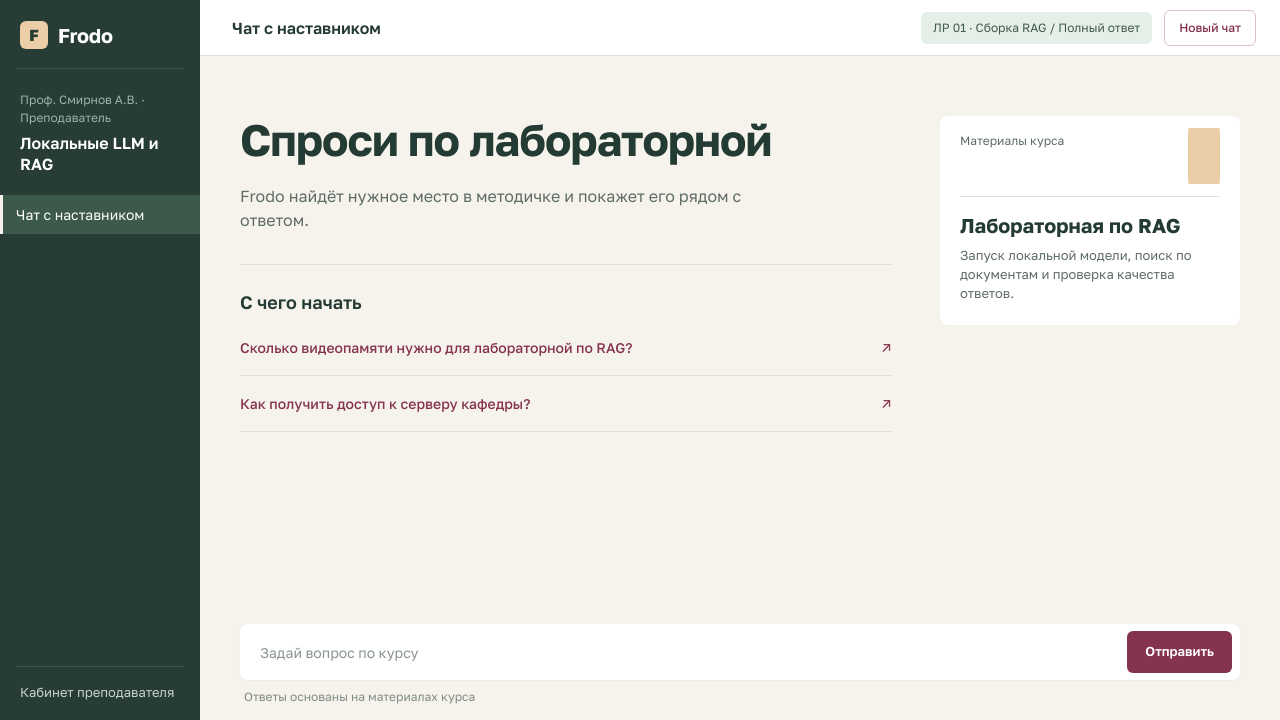
Test: чат с наставником › отправляет вопрос из композера и очищает поле
Type "  Сколько нужно видеопамяти?  " into the field labelled "вопрос по курсу" at x=688, y=652, box x1=258 y1=640 x2=1117 y2=664
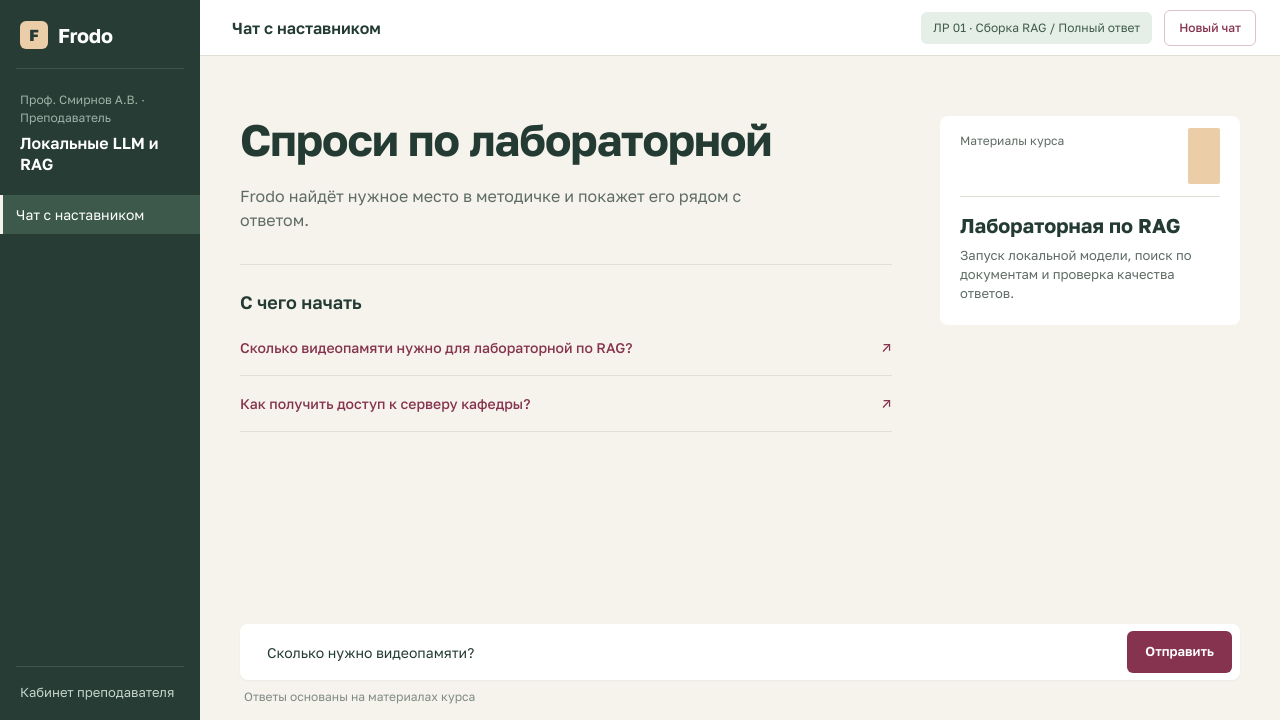
Click the button "Отправить" at x=1180, y=652, box x1=1127 y1=631 x2=1232 y2=673
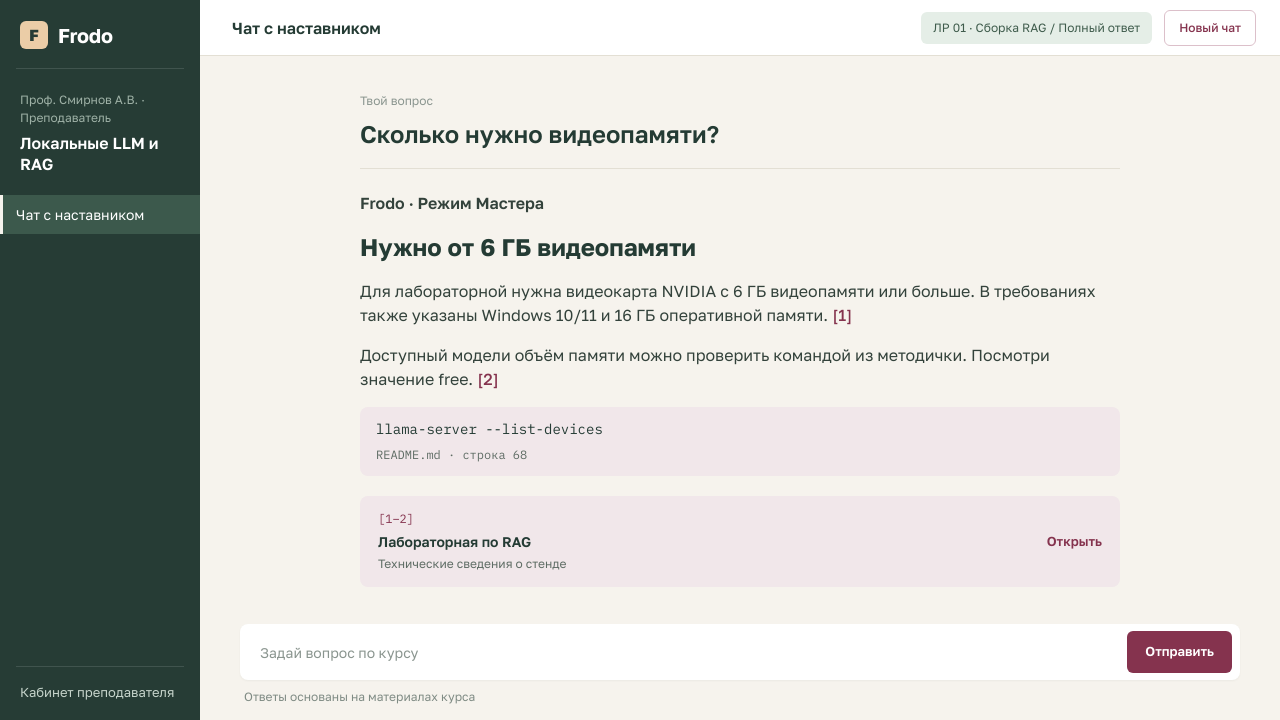
Result: the text "Сколько нужно видеопамяти?" is shown at x1=360 y1=119 x2=719 y2=148
Result: the field labelled "вопрос по курсу" is empty at x1=258 y1=640 x2=1117 y2=664
Result: the heading "Нужно от 6 ГБ видеопамяти" is shown at x1=360 y1=232 x2=696 y2=261
